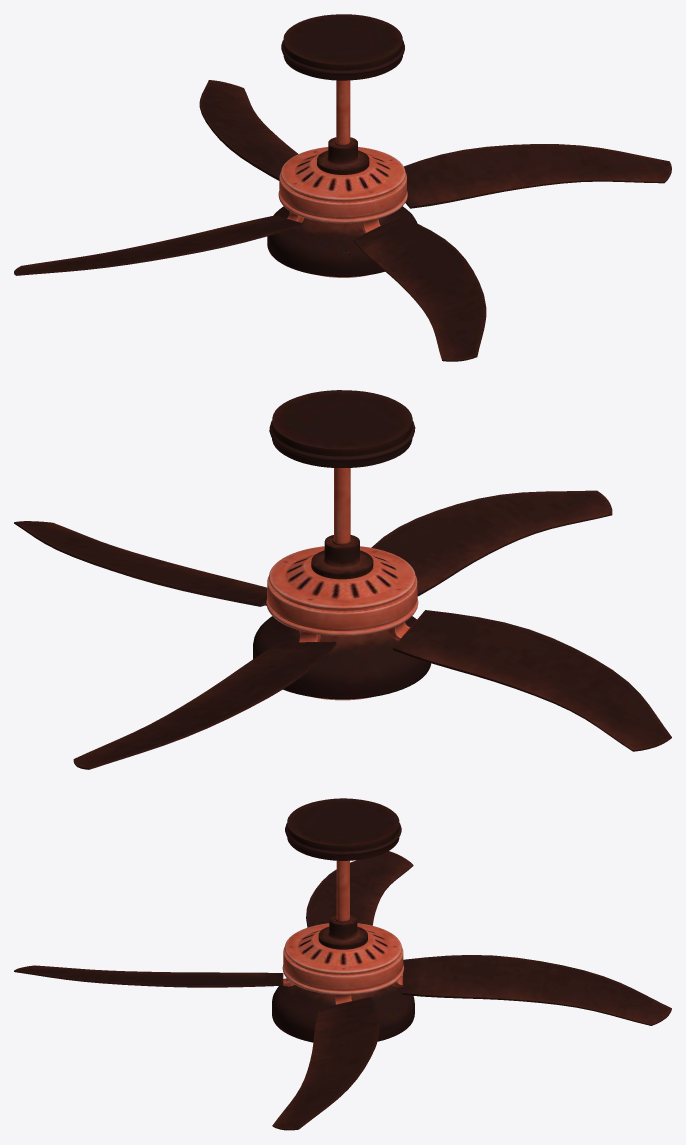
Rendered from nyb_crooklyn_fan.glb.
3 renders of one model, top to bottom at view 1: azimuth 30°, elevation 25°; view 2: azimuth 150°, elevation 25°; view 3: azimuth 270°, elevation 25°, orthographic. The views are drawn at different scales.
Parts seen in each view (by area): view 1: ceiling_fan; view 2: ceiling_fan; view 3: ceiling_fan.
Part boxes in pixels (box(x1,y1,x2,y2)): ceiling_fan: box(14, 14, 671, 361); ceiling_fan: box(14, 390, 671, 769); ceiling_fan: box(14, 798, 671, 1130).
Size of the model in its own units: 1.46 by 0.5163 by 1.46.
Materials: 1 (1 with a texture image).
